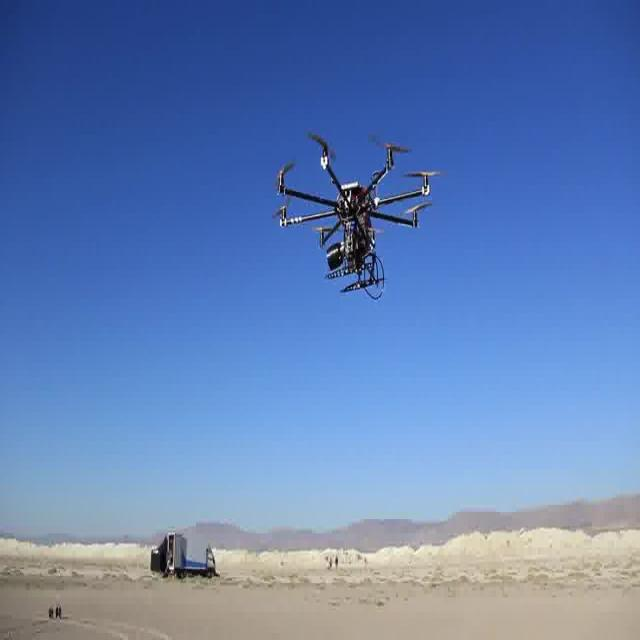drone: (260, 111, 454, 320)
